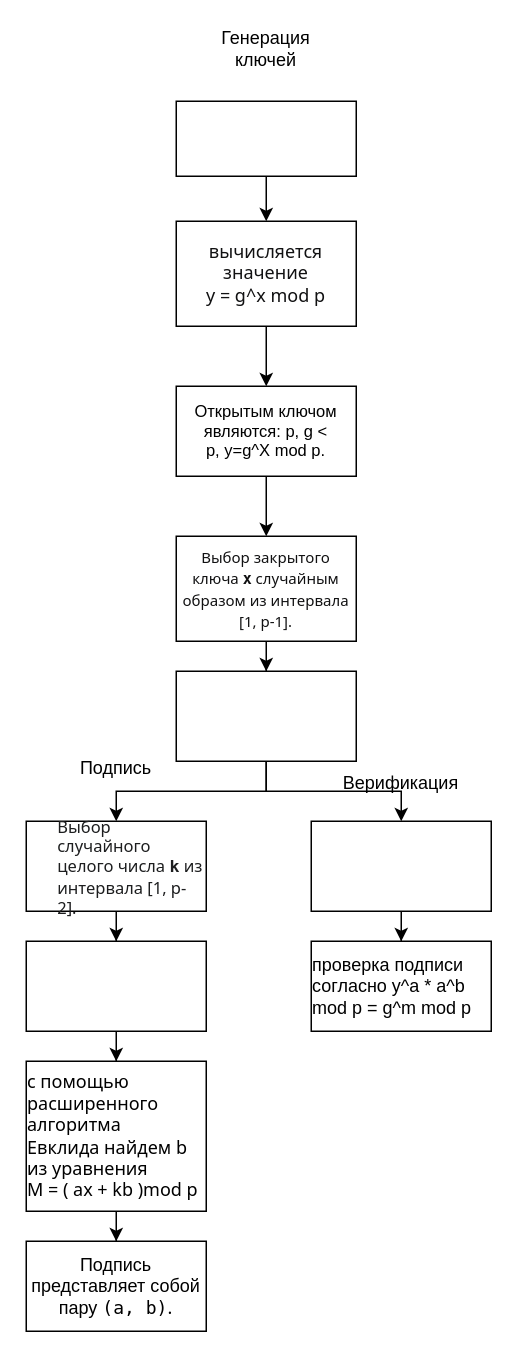
This 518x1358 diagram has some shape labels left out. The shapes that lost their labels are listed below. From the top down, each one's centre as x and y in pixels, then its label:
(265,138): выбирается простое число р и два случайных числа g и x,
(265,715): Секретным ключом является значение: x < p.
(400,865): Получение открытого ключа (a, b)
(115,985): вычисляем a = g^ k mod 11
